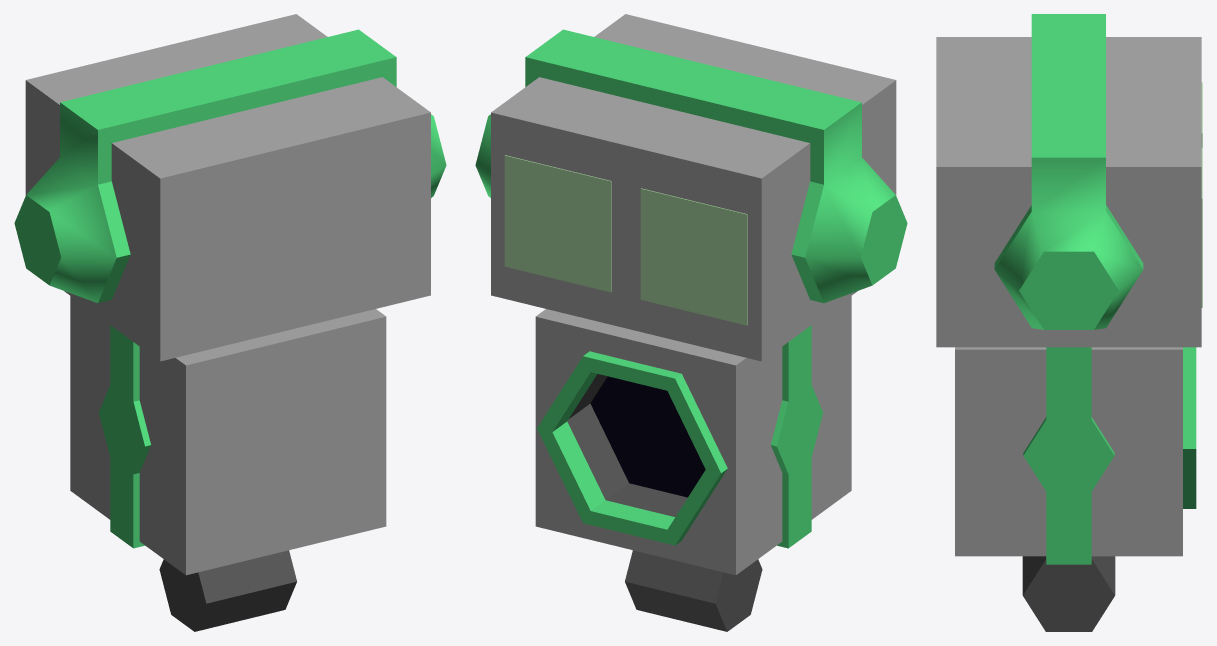
Rendered from greenStandardRobot.fbx.
The picture shows the model from 3 angles, left to right: view 1: azimuth 30°, elevation 25°; view 2: azimuth 150°, elevation 25°; view 3: azimuth 270°, elevation 25°; orthographic projection.
Visible parts, largest first — view 1: pCube2, polySurface2, pasted__pCylinder9, pCylinder8, pCylinder2; view 2: pCube2, polySurface2, pasted__pCylinder9, polySurface1, pCube5, pasted__pCube5, pCylinder8, pCylinder2; view 3: pCube2, polySurface2, pasted__pCylinder9, pCylinder2, pCylinder8, polySurface1.
Part boxes in pixels (left/top/right/bottom): pCube2: left=25, top=14, right=430, bottom=361; polySurface2: left=70, top=296, right=386, bottom=575; pasted__pCylinder9: left=14, top=29, right=446, bottom=303; pCylinder8: left=159, top=550, right=296, bottom=631; pCylinder2: left=98, top=325, right=150, bottom=548; pCube2: left=491, top=14, right=896, bottom=361; polySurface2: left=535, top=296, right=851, bottom=575; pasted__pCylinder9: left=475, top=29, right=907, bottom=303; polySurface1: left=537, top=351, right=727, bottom=545; pCube5: left=640, top=188, right=747, bottom=325; pasted__pCube5: left=504, top=155, right=611, bottom=292; pCylinder8: left=625, top=550, right=762, bottom=631; pCylinder2: left=771, top=325, right=823, bottom=548; pCube2: left=936, top=37, right=1201, bottom=347; polySurface2: left=955, top=347, right=1182, bottom=556; pasted__pCylinder9: left=994, top=14, right=1143, bottom=329; pCylinder2: left=1023, top=347, right=1114, bottom=564; pCylinder8: left=1022, top=556, right=1115, bottom=631; polySurface1: left=1183, top=347, right=1196, bottom=508.
Size of the model in its own units: 3.82 by 5.08 by 2.33.
